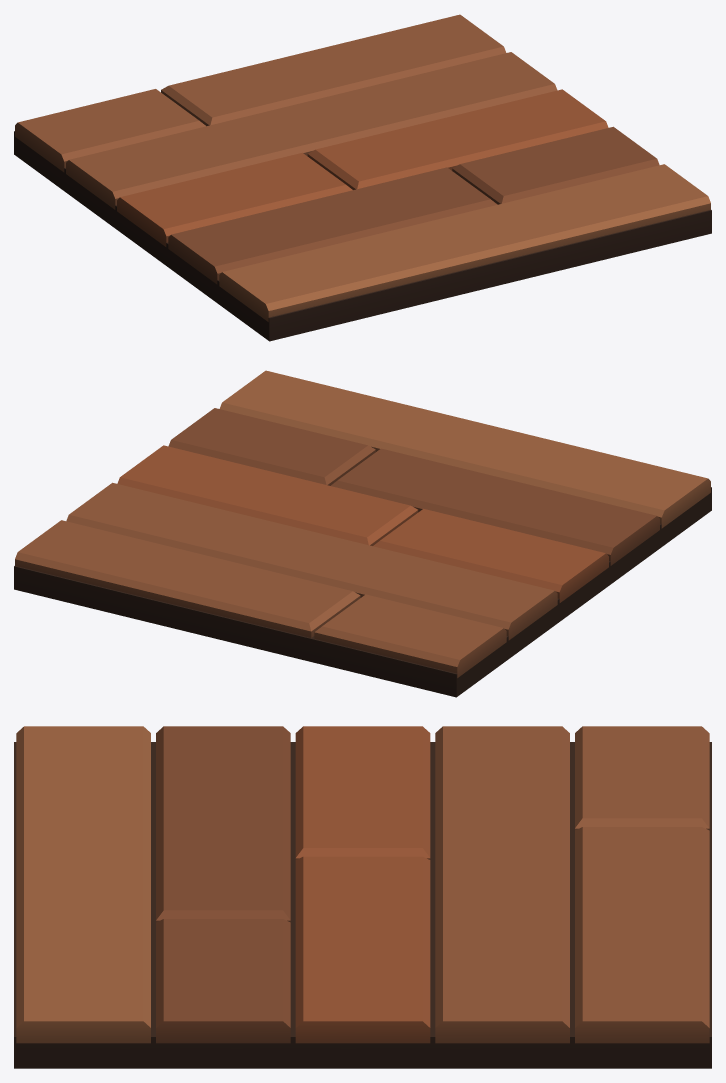
Rendered from floor_planks_small_D.glb.
The picture shows the model from 3 angles, top to bottom: view 1: azimuth 30°, elevation 25°; view 2: azimuth 150°, elevation 25°; view 3: azimuth 270°, elevation 25°; orthographic projection. The views are drawn at different scales.
Parts seen in each view (by area): view 1: Item; view 2: Item; view 3: Item.
Part boxes in pixels (x1=…): Item: x1=14, y1=14, x2=711, y2=341; Item: x1=14, y1=370, x2=711, y2=697; Item: x1=14, y1=726, x2=711, y2=1068.
Size of the model in its own units: 2 by 0.15 by 2.
1 material, 1 textured.
